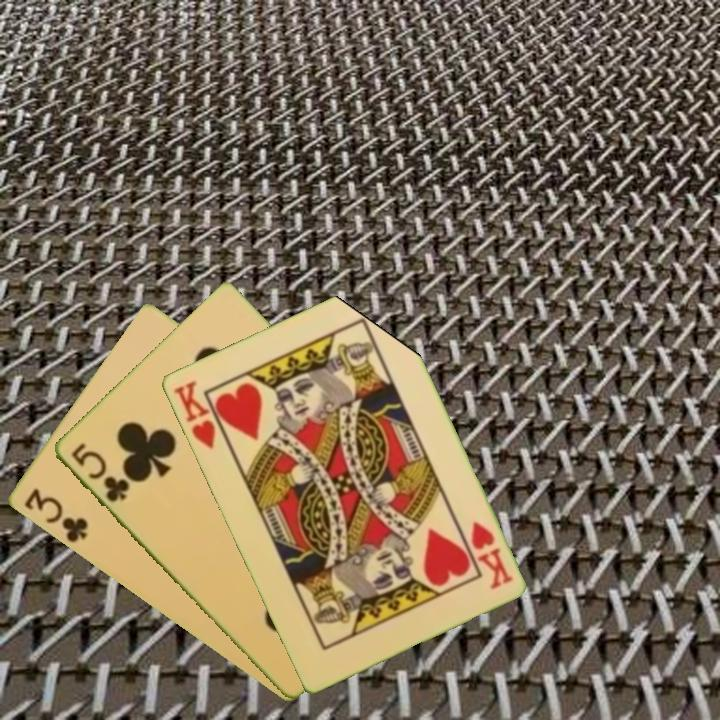3c: (19, 485, 91, 546)
5c: (66, 439, 132, 506)
Kh: (169, 376, 231, 452), (466, 517, 516, 593)
